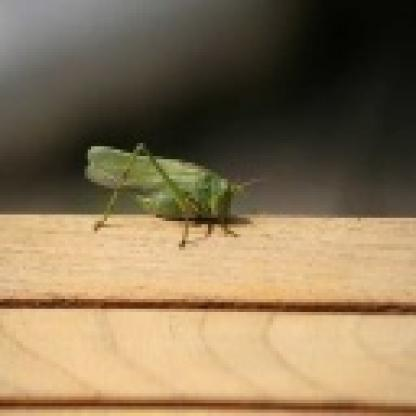grasshopper: (76, 126, 272, 253)
